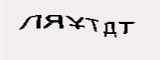Б: (53, 18, 66, 41)
В: (98, 17, 121, 48)
М: (80, 19, 95, 43)
П: (35, 19, 52, 39)
Ю: (67, 18, 80, 40)
